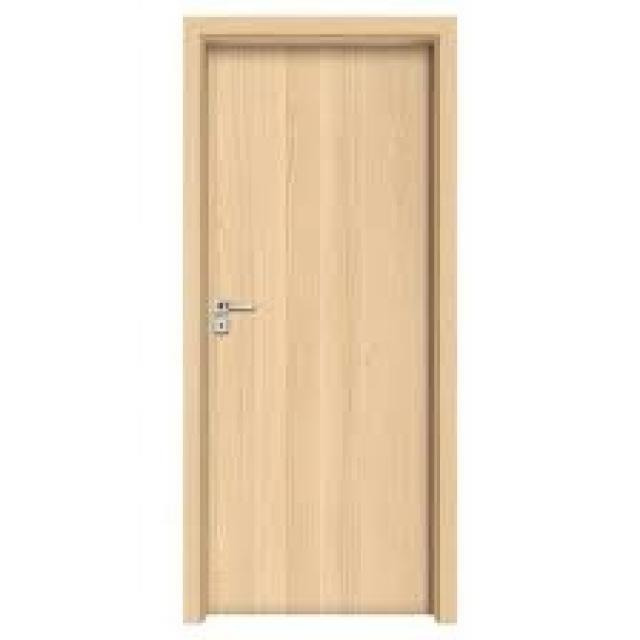door: (170, 10, 468, 632)
